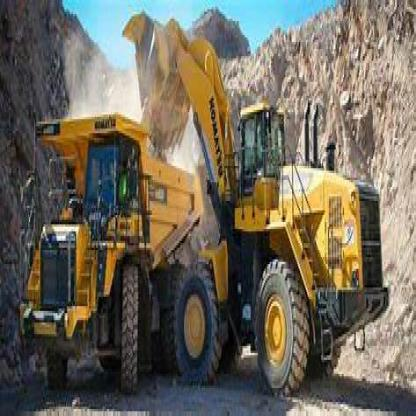bull_dozer/loader/grader: (122, 0, 392, 393)
dump_truck: (24, 105, 191, 395)
